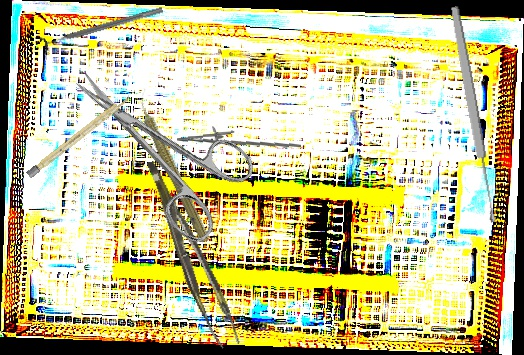Fixation Ring: (38, 0, 166, 56)
Handpiece: (128, 86, 216, 245)
Iris Scissors: (48, 37, 266, 248)
Needle Holder: (176, 119, 301, 157)
Scalpel Handle: (26, 93, 132, 179)
Surgical Spoon: (448, 5, 499, 224)
Tissue Forceps: (146, 152, 241, 354)
